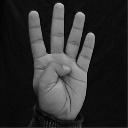hand: (27, 2, 95, 121)
